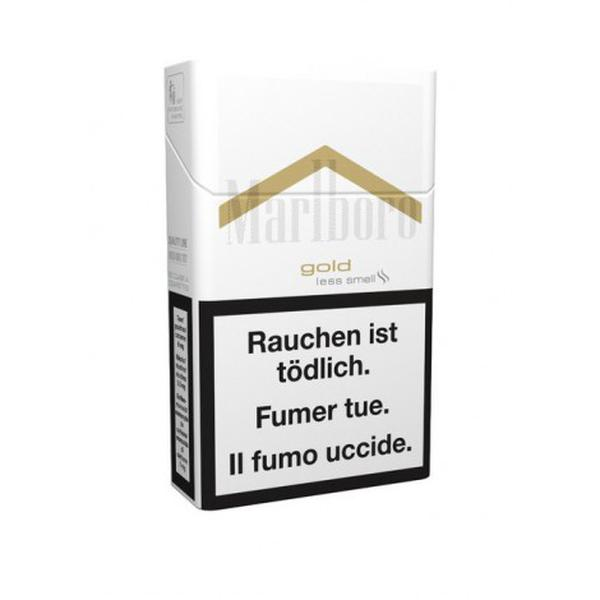marlboro_gold: (197, 64, 427, 479)
